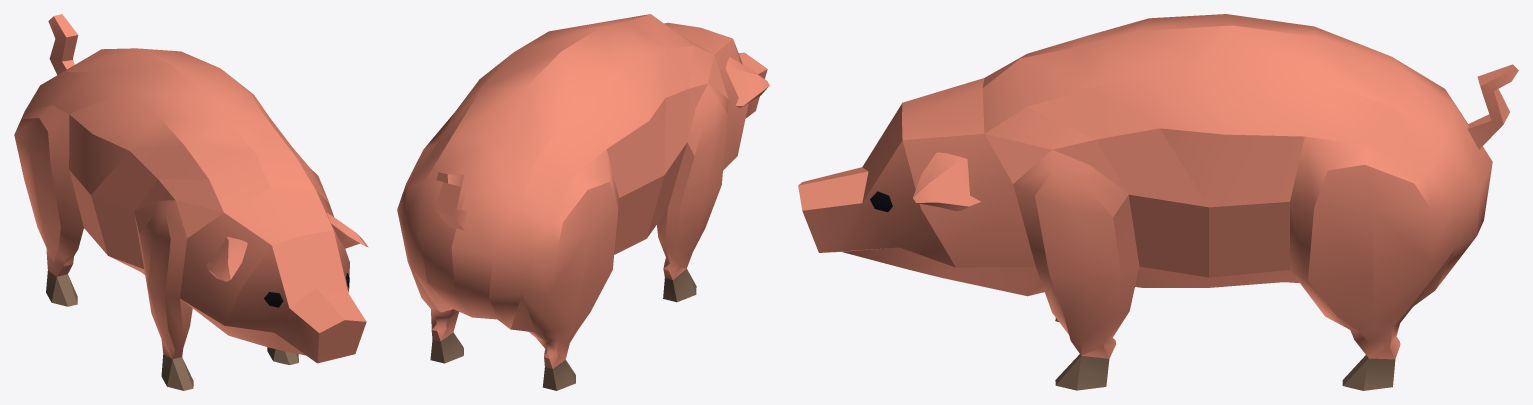
The model's file is Little_Pig.fbx.
The picture shows the model from 3 angles, left to right: view 1: azimuth 30°, elevation 25°; view 2: azimuth 150°, elevation 25°; view 3: azimuth 270°, elevation 25°; orthographic projection. The views are drawn at different scales.
Visible parts, largest first — view 1: Little_Pig; view 2: Little_Pig; view 3: Little_Pig.
Part boxes in pixels (box(x1,y1,x2,y2)): Little_Pig: box(14, 14, 368, 390); Little_Pig: box(397, 14, 769, 390); Little_Pig: box(798, 14, 1518, 390).
Size of the model in its own units: 12.82 by 18.01 by 36.18.
